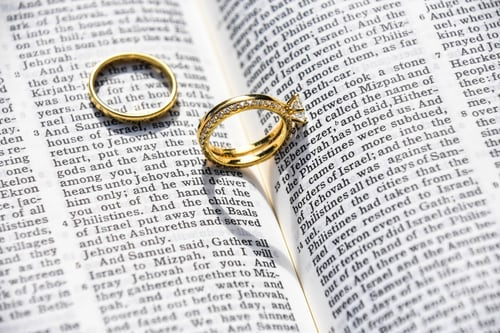ring: (198, 76, 308, 172)
